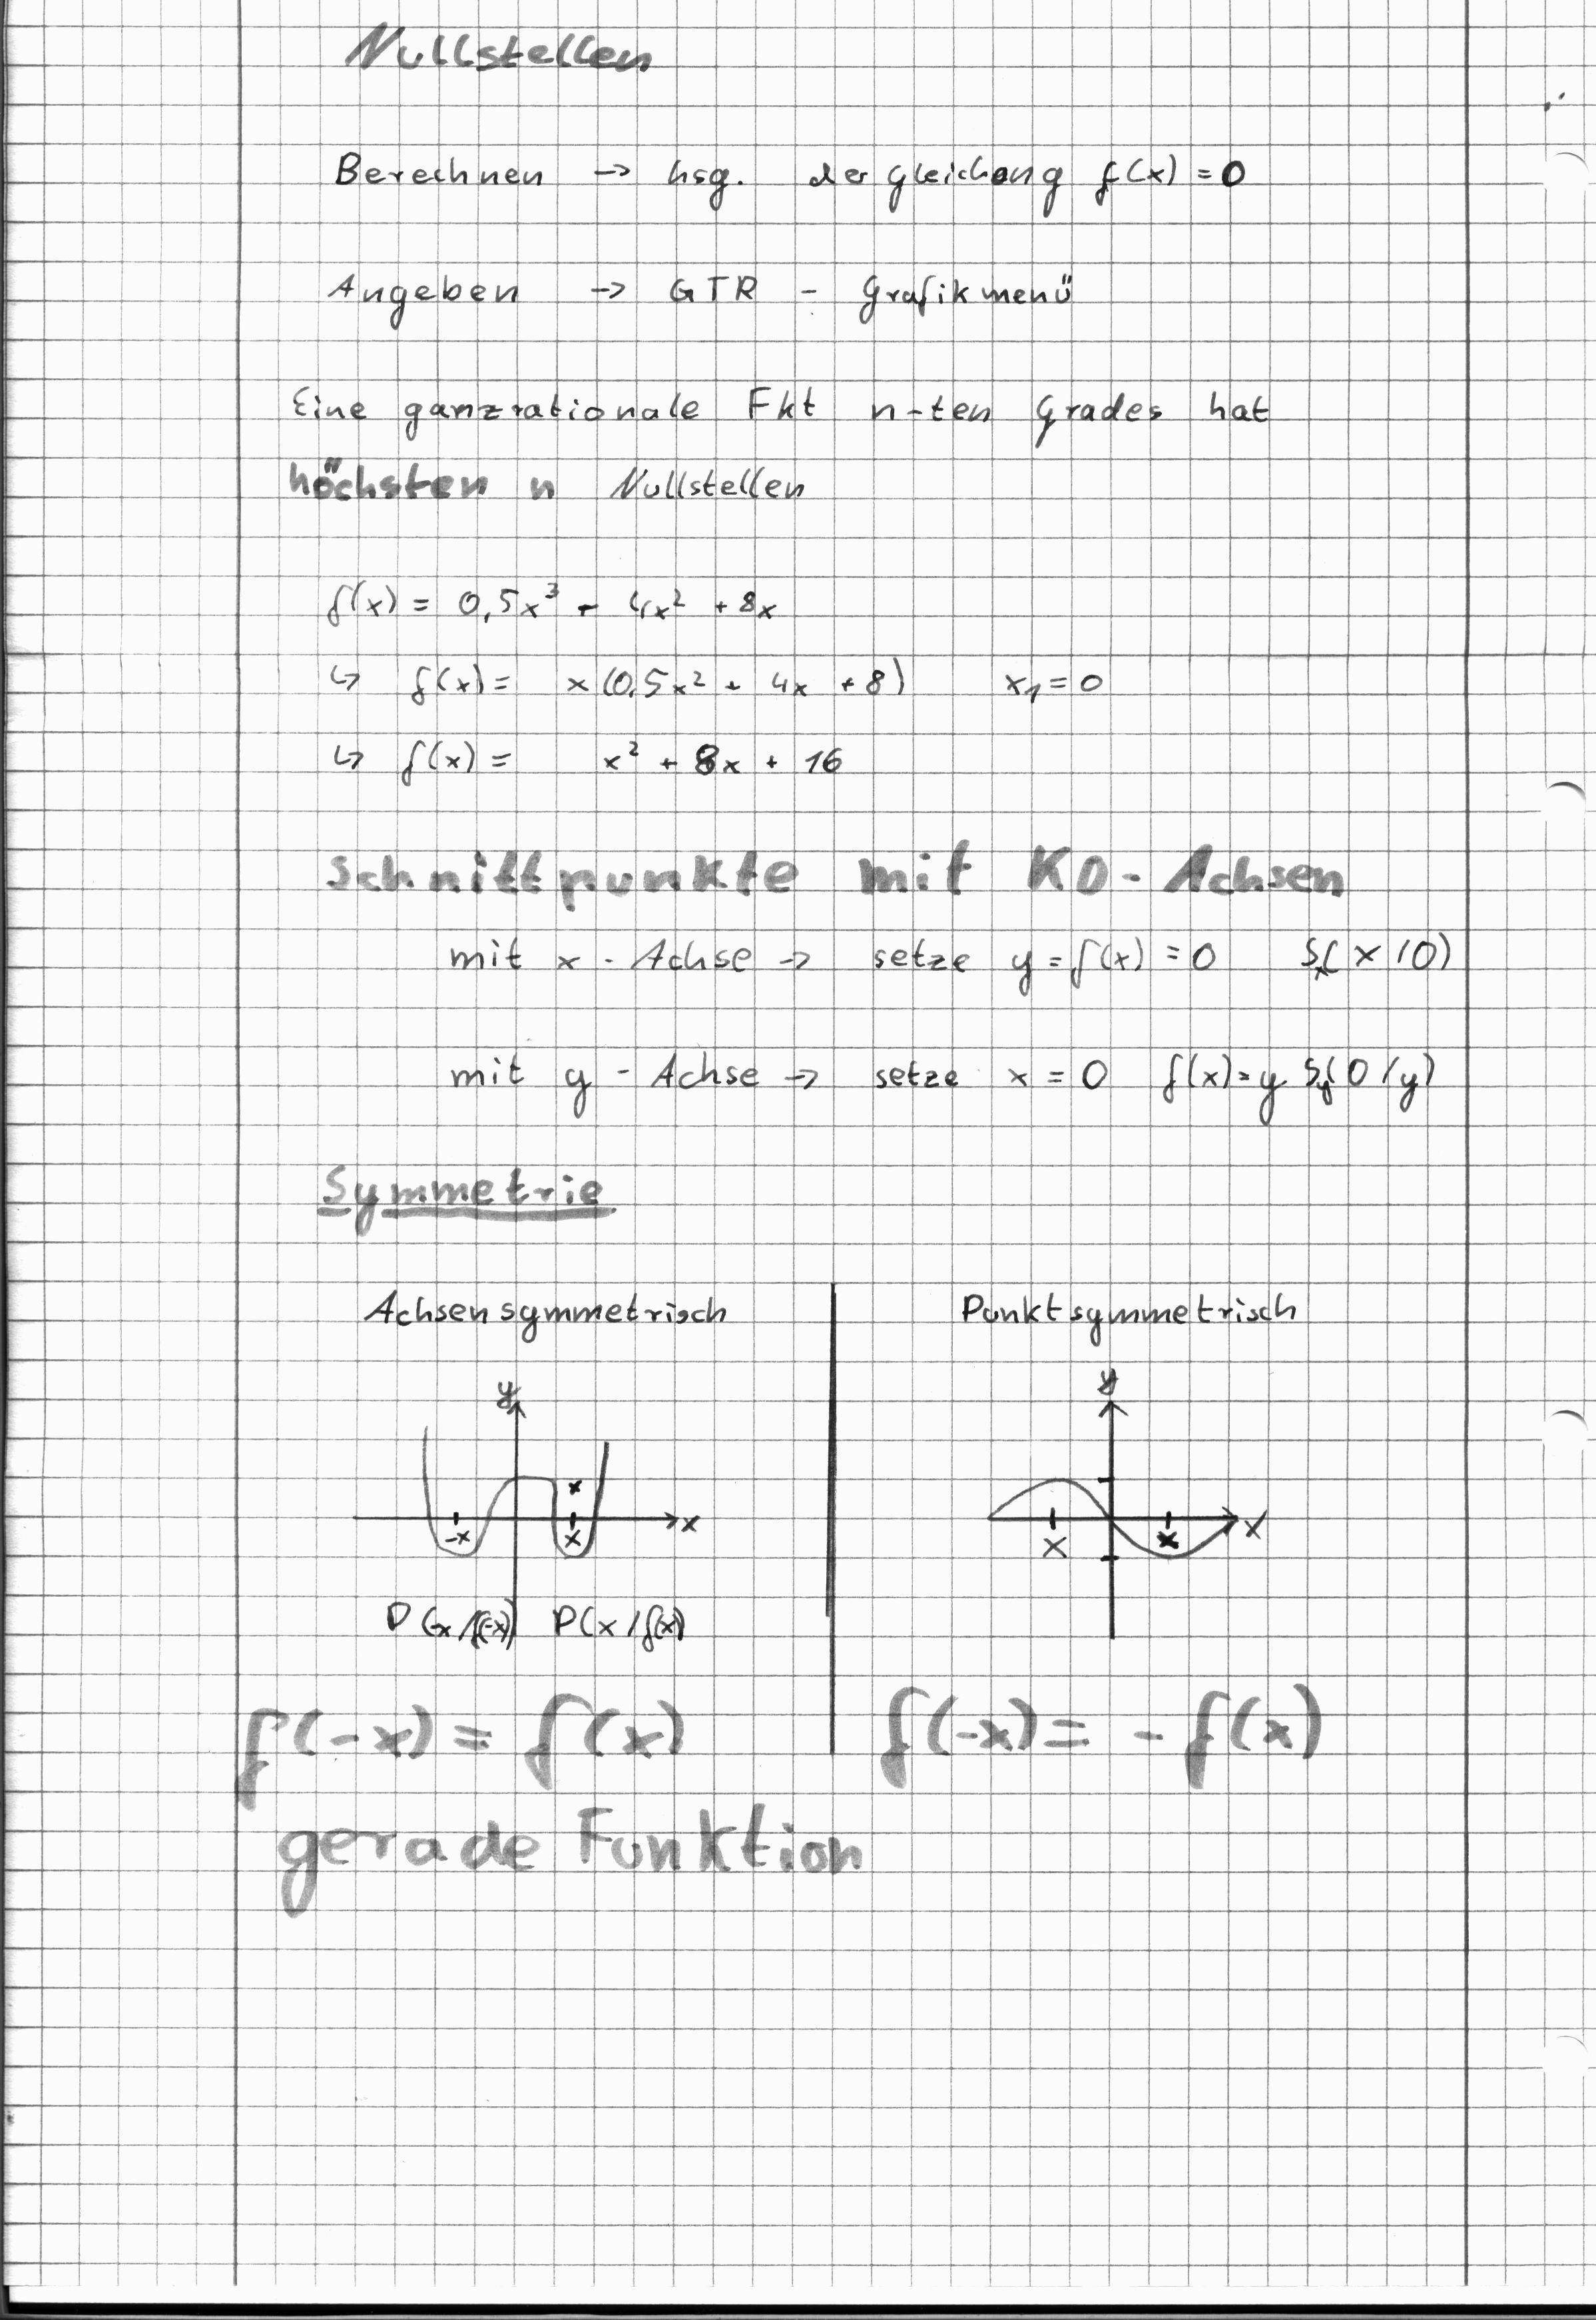word: (271, 372, 1278, 514), (318, 569, 916, 790), (312, 126, 1254, 232), (432, 914, 1460, 1008), (440, 1037, 1448, 1129), (313, 252, 1090, 342), (938, 1257, 1311, 1356), (348, 1272, 752, 1352), (983, 645, 1121, 715)
